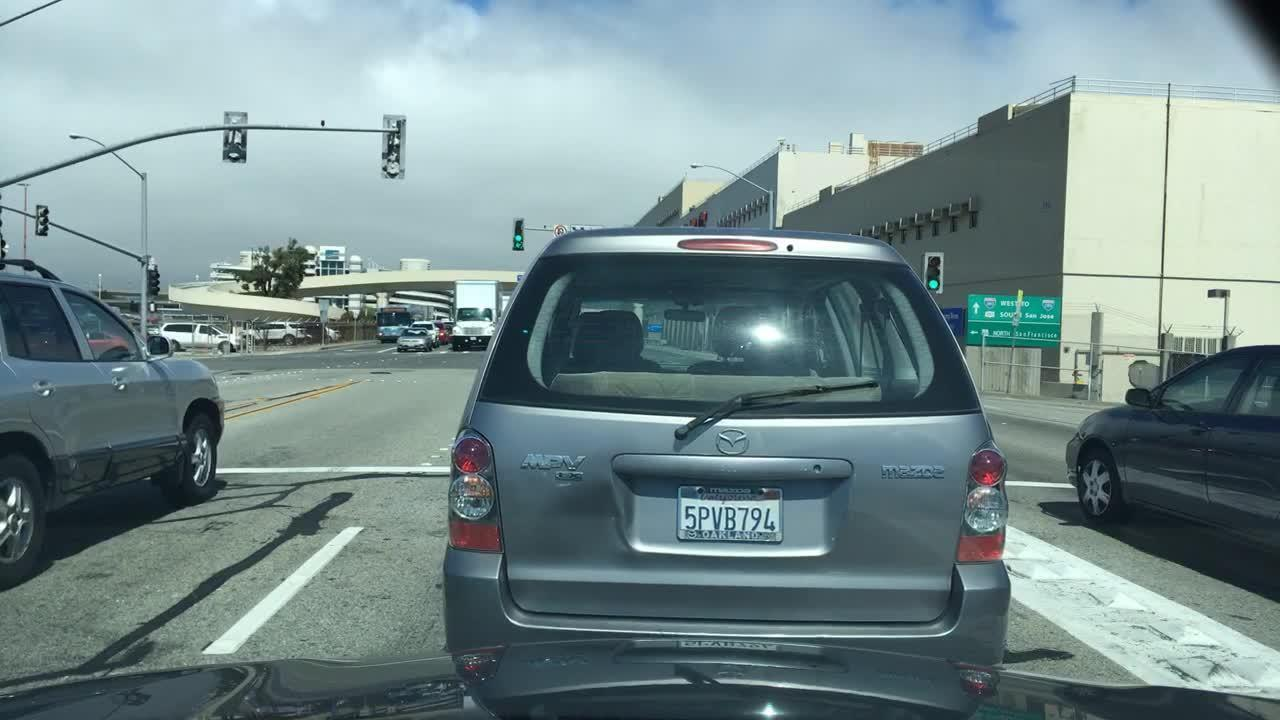Mazda: (711, 419, 762, 469)
